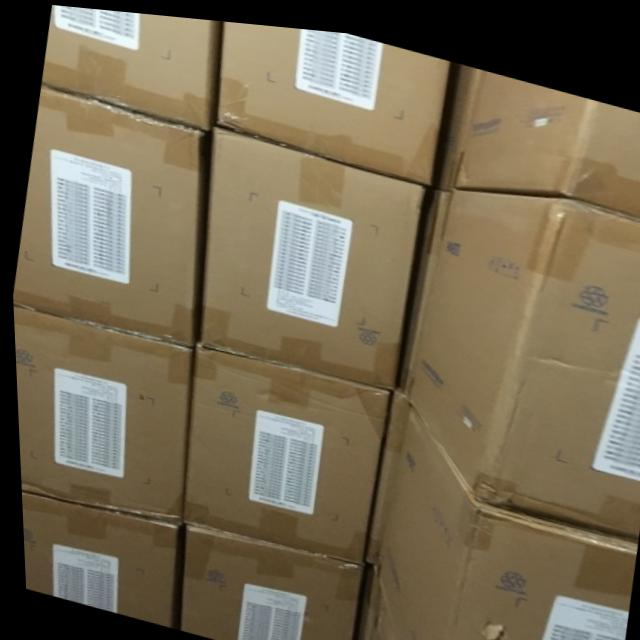box: (402, 181, 640, 524), (369, 400, 634, 640), (199, 120, 423, 384), (10, 85, 201, 345), (178, 346, 390, 558), (11, 307, 188, 521), (214, 17, 449, 176), (450, 59, 640, 204), (40, 4, 225, 125), (174, 518, 357, 640), (17, 492, 176, 624), (363, 587, 390, 640)
